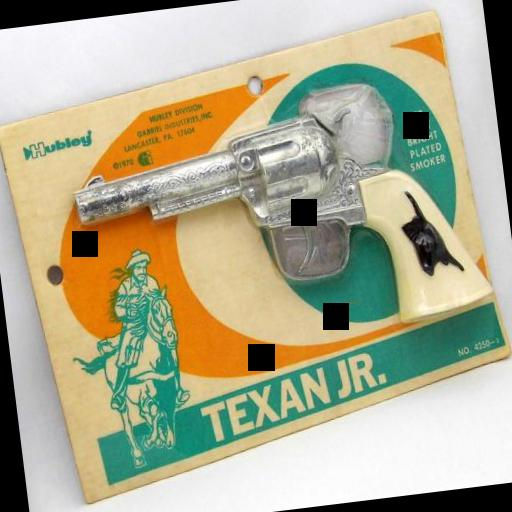Handgun: (63, 86, 496, 362)
